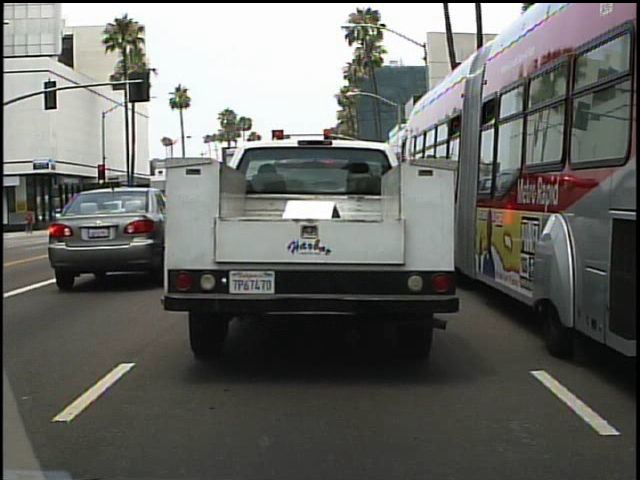person: (25, 209, 37, 236)
